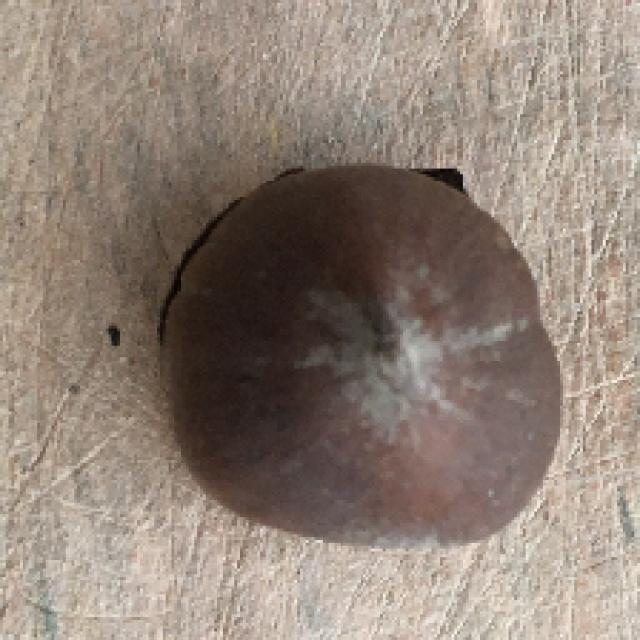damagedHazelnut: (152, 154, 565, 561)
